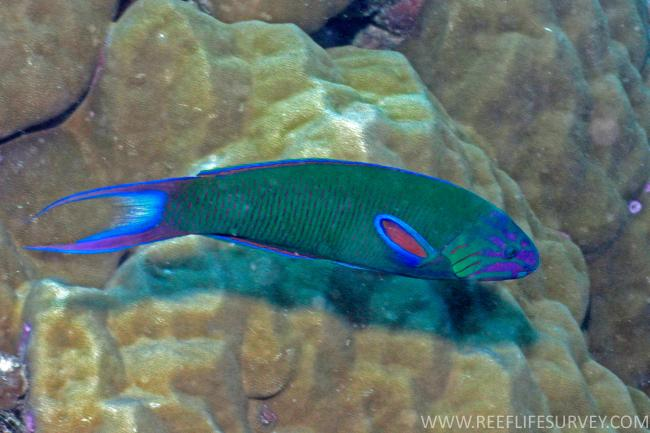fish: (22, 157, 541, 282)
